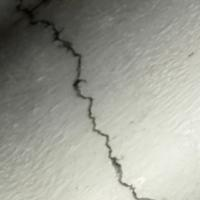crack: (28, 3, 145, 199)
